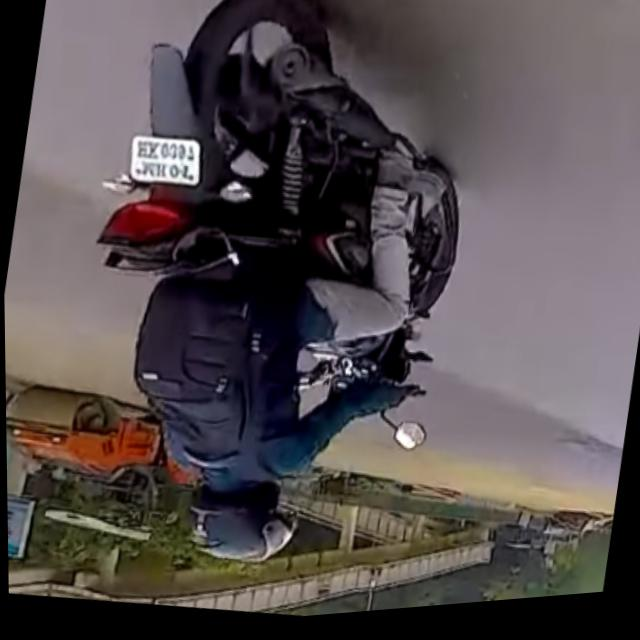WITH_HELMET: (180, 471, 297, 577)
normal: (31, 0, 508, 612)
